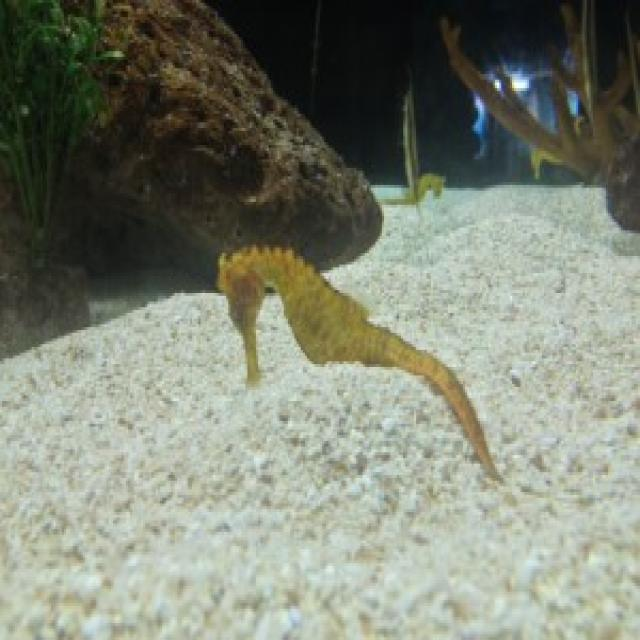Seahorse: (205, 240, 517, 496)
